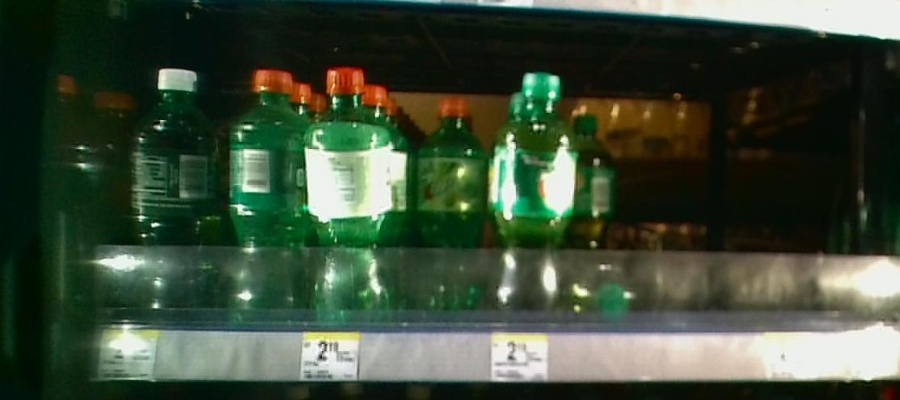bottle: (306, 60, 393, 322), (131, 64, 218, 317), (223, 66, 303, 317), (492, 69, 571, 311), (415, 89, 487, 317), (574, 105, 618, 279)
